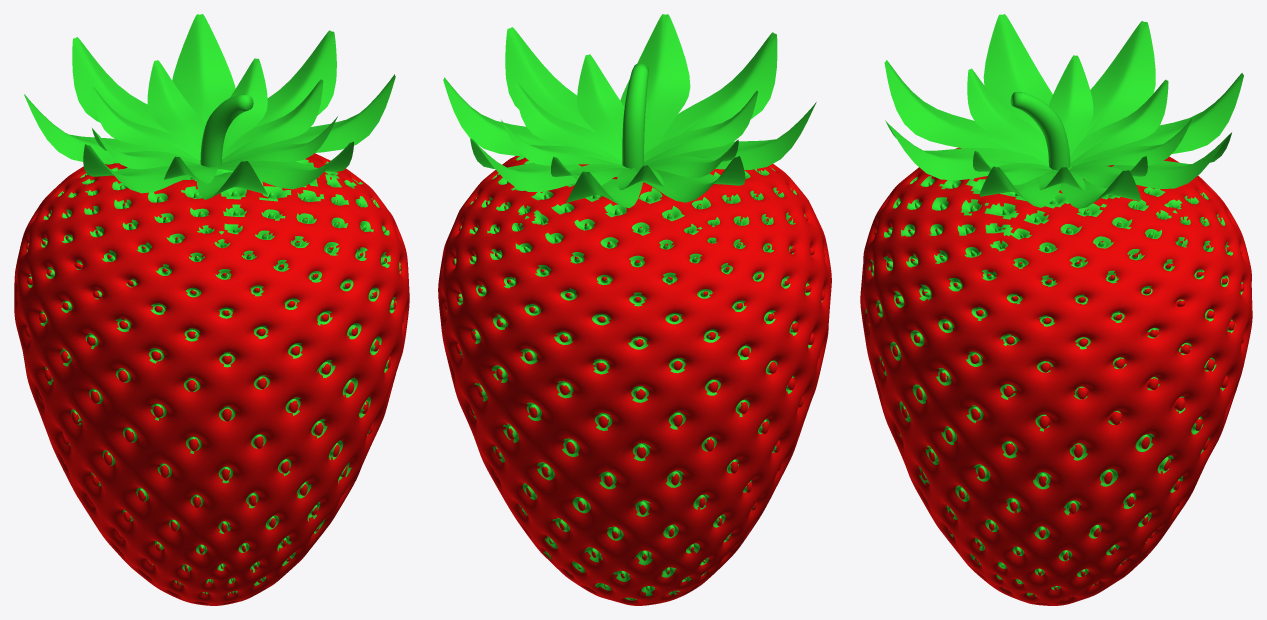
Rendered from Strawberry.fbx.
3 renders of one model, left to right at view 1: azimuth 30°, elevation 25°; view 2: azimuth 150°, elevation 25°; view 3: azimuth 270°, elevation 25°, orthographic.
Parts seen in each view (by area): view 1: strawberry.002; view 2: strawberry.002; view 3: strawberry.002.
Part boxes in pixels (<box>): strawberry.002: <box>14,14,409,605</box>; strawberry.002: <box>438,14,831,605</box>; strawberry.002: <box>860,14,1252,605</box>.
Bounding box in the file's own units: 490 × 708 × 490.
